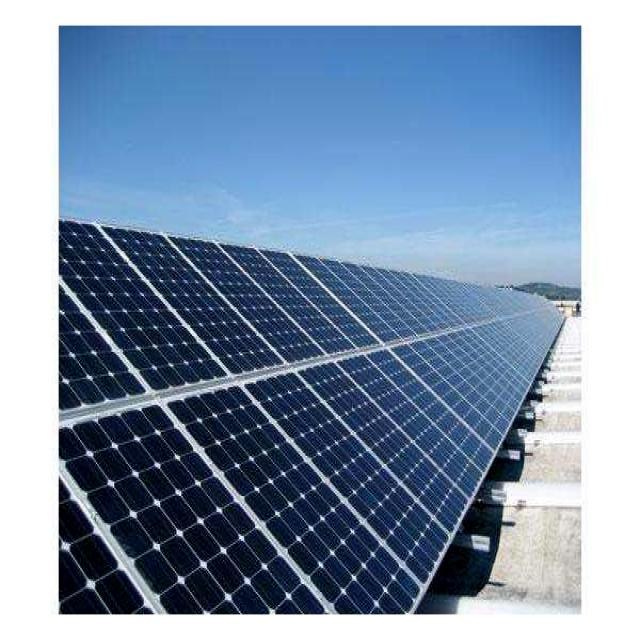crack: (60, 217, 588, 634)
